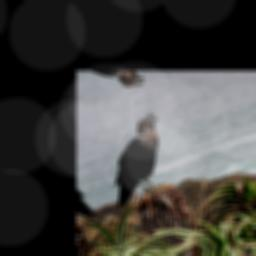Crow: (89, 110, 187, 214)
